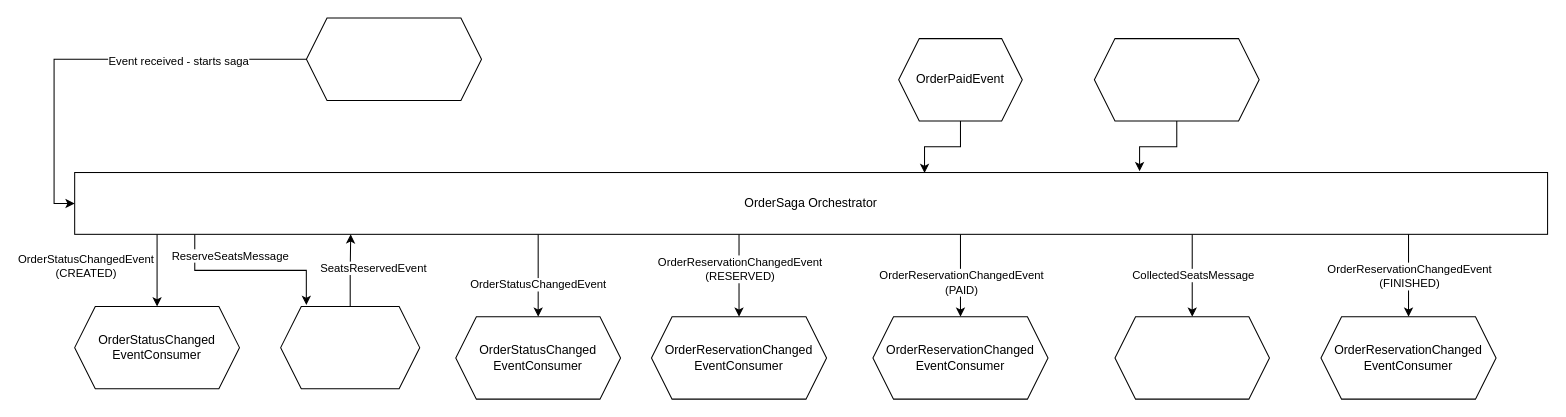
Image size: 1566x417. Some labels were removed from this diagram. The shapes that lost their labels are listed below. From the top down, each one's centre as x and y in pixels, then its label:
At [393,58]: "OrderSagaStartedEvent".
At [1176,79]: "TicketsCollectedEvent".
At [350,347]: "ReserveSeats MessageConsumer".
At [1191,357]: "CollectedSeats MessageConsumer".
